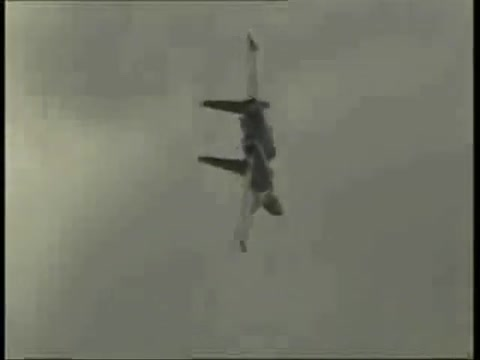aeroplane: (199, 35, 286, 253)
